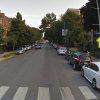Crosswalk: (6, 76, 100, 99)
